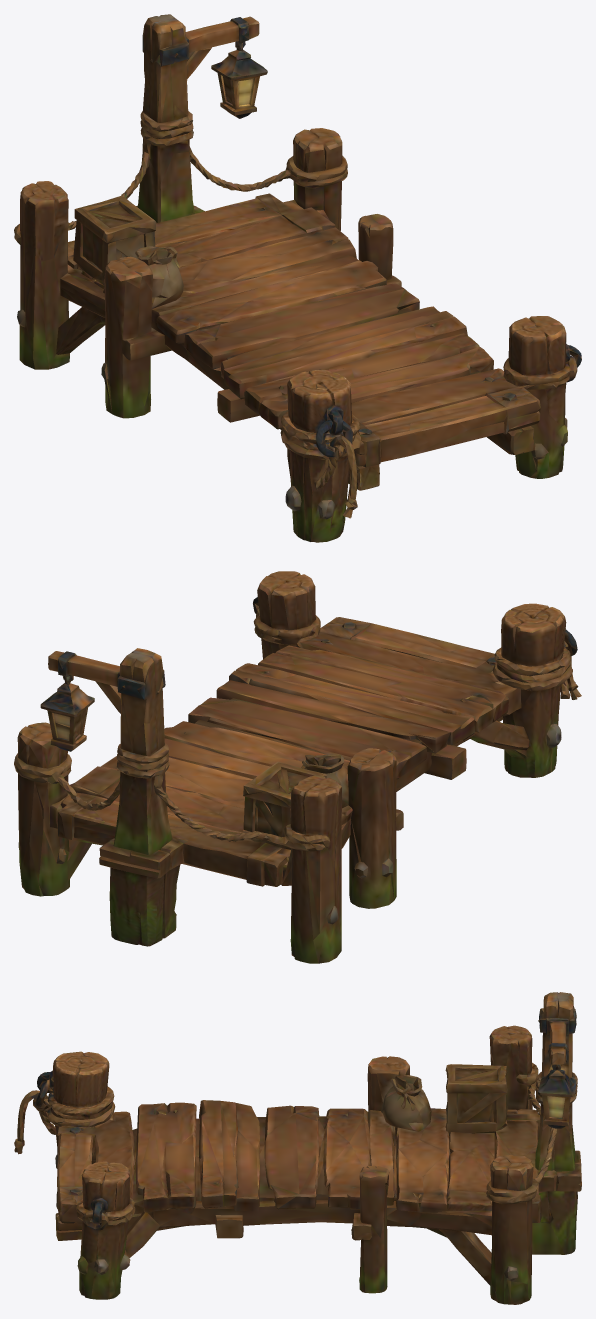
File: lake-lantern-dock.glb
3 views of the same model, one above another, from view 1: azimuth 30°, elevation 25°; view 2: azimuth 150°, elevation 25°; view 3: azimuth 270°, elevation 25° (orthographic). The views are drawn at different scales.
Parts seen in each view (by area): view 1: output_unwrapped; view 2: output_unwrapped; view 3: output_unwrapped.
Part boxes in pixels (x1,y1,x2,y2): output_unwrapped: [14, 14, 581, 542]; output_unwrapped: [14, 571, 581, 963]; output_unwrapped: [14, 992, 581, 1304].
Bounding box in the file's own units: 1.09 × 0.9139 × 1.9.
1 material, 1 textured.
